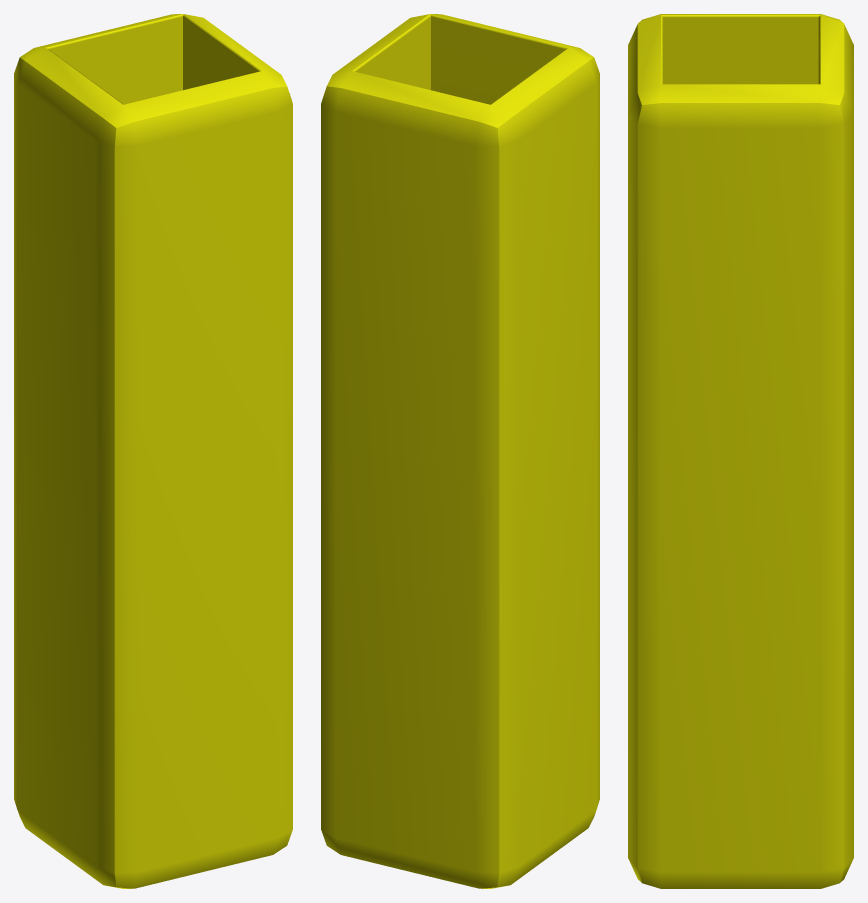
Rendered from Podium_Metal_Feet_Lod0.fbx.
The picture shows the model from 3 angles, left to right: view 1: azimuth 30°, elevation 25°; view 2: azimuth 150°, elevation 25°; view 3: azimuth 270°, elevation 25°; orthographic projection. The views are drawn at different scales.
Parts seen in each view (by area): view 1: Podium_Metal_Feet_Lod0; view 2: Podium_Metal_Feet_Lod0; view 3: Podium_Metal_Feet_Lod0.
Part boxes in pixels (box(x1,y1,x2,y2)): Podium_Metal_Feet_Lod0: box(14, 14, 292, 888); Podium_Metal_Feet_Lod0: box(321, 14, 599, 888); Podium_Metal_Feet_Lod0: box(628, 14, 853, 888).
Bounding box in the file's own units: 139 × 536 × 137.
